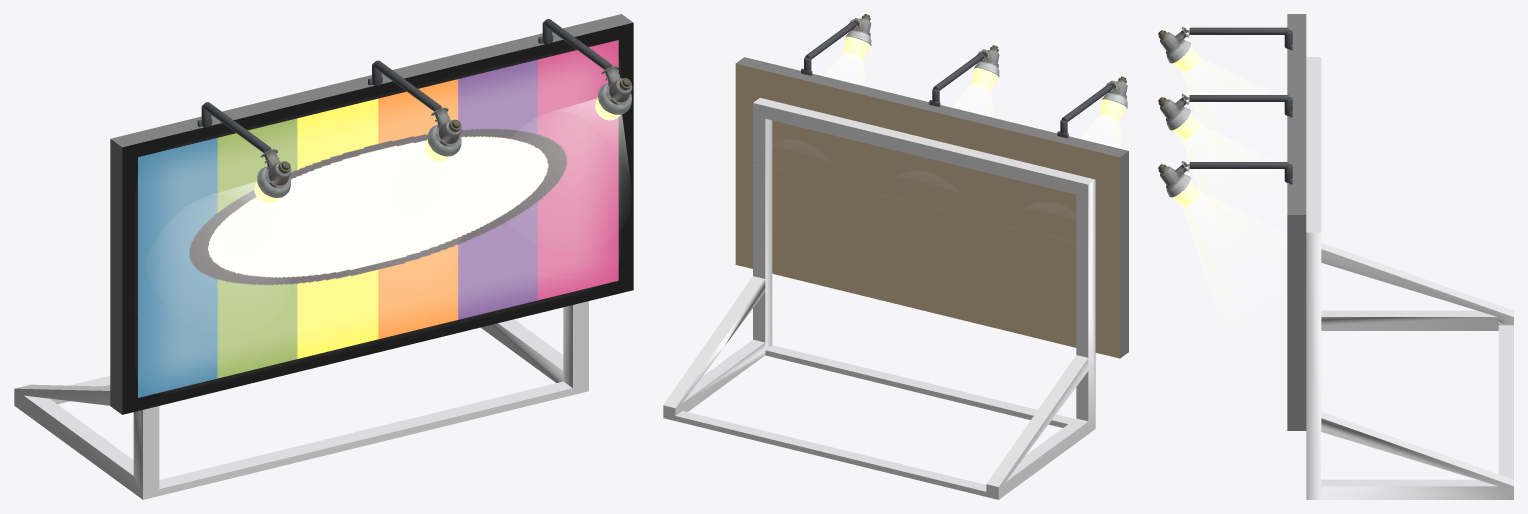
Rendered from KFB_Billboard_Lamps.r3.glb.
3 views of the same model, side by side, from view 1: azimuth 30°, elevation 25°; view 2: azimuth 150°, elevation 25°; view 3: azimuth 270°, elevation 25° (orthographic). The views are drawn at different scales.
Parts seen in each view (by area): view 1: KFB_Card, KFB_Glow_pool, billboard_wall, KFB_Glow_wedge_2, KFB_Glow_wedge_0, KFB_Glow_wedge_1, KFB_Lamp_flood_0, KFB_Lamp_flood_2, KFB_Lamp_flood_1, lamp_arm_0, lamp_arm_2, lamp_arm_1; view 2: billboard_wall, KFB_Glow_wedge_0, KFB_Glow_wedge_1, KFB_Glow_wedge_2, KFB_Lamp_flood_1, KFB_Lamp_flood_0, KFB_Lamp_flood_2, lamp_arm_0, lamp_arm_1, lamp_arm_2; view 3: billboard_wall, KFB_Glow_wedge_2, KFB_Glow_wedge_0, KFB_Glow_wedge_1, KFB_Lamp_flood_2, KFB_Lamp_flood_1, KFB_Lamp_flood_0, lamp_arm_0, lamp_arm_1, lamp_arm_2.
Boxes of the visible parts, box(x1,y1,x2,y2) form: KFB_Card: box(138, 40, 618, 397); KFB_Glow_pool: box(154, 62, 602, 376); billboard_wall: box(14, 14, 633, 499); KFB_Glow_wedge_2: box(531, 98, 628, 197); KFB_Glow_wedge_0: box(190, 182, 287, 280); KFB_Glow_wedge_1: box(361, 140, 458, 238); KFB_Lamp_flood_0: box(254, 148, 291, 203); KFB_Lamp_flood_2: box(595, 65, 632, 120); KFB_Lamp_flood_1: box(425, 107, 461, 161); lamp_arm_0: box(197, 102, 271, 153); lamp_arm_2: box(538, 19, 612, 69); lamp_arm_1: box(368, 60, 441, 111); billboard_wall: box(663, 57, 1128, 499); KFB_Glow_wedge_0: box(1080, 114, 1121, 148); KFB_Glow_wedge_1: box(951, 83, 993, 117); KFB_Glow_wedge_2: box(824, 52, 865, 86); KFB_Lamp_flood_1: box(972, 45, 999, 90); KFB_Lamp_flood_0: box(1100, 76, 1127, 122); KFB_Lamp_flood_2: box(843, 14, 871, 59); lamp_arm_0: box(1057, 84, 1112, 138); lamp_arm_1: box(929, 53, 984, 106); lamp_arm_2: box(801, 21, 856, 75); billboard_wall: box(1287, 14, 1513, 499); KFB_Glow_wedge_2: box(1182, 191, 1286, 303); KFB_Glow_wedge_0: box(1182, 57, 1283, 144); KFB_Glow_wedge_1: box(1182, 124, 1283, 211); KFB_Lamp_flood_2: box(1158, 161, 1199, 206); KFB_Lamp_flood_1: box(1158, 94, 1199, 139); KFB_Lamp_flood_0: box(1158, 27, 1199, 72); lamp_arm_0: box(1189, 27, 1292, 50); lamp_arm_1: box(1189, 95, 1292, 117); lamp_arm_2: box(1189, 162, 1292, 184).
Bounding box in the file's own units: 6 × 4.42 × 4.48.
Materials: 14 (4 with a texture image).
